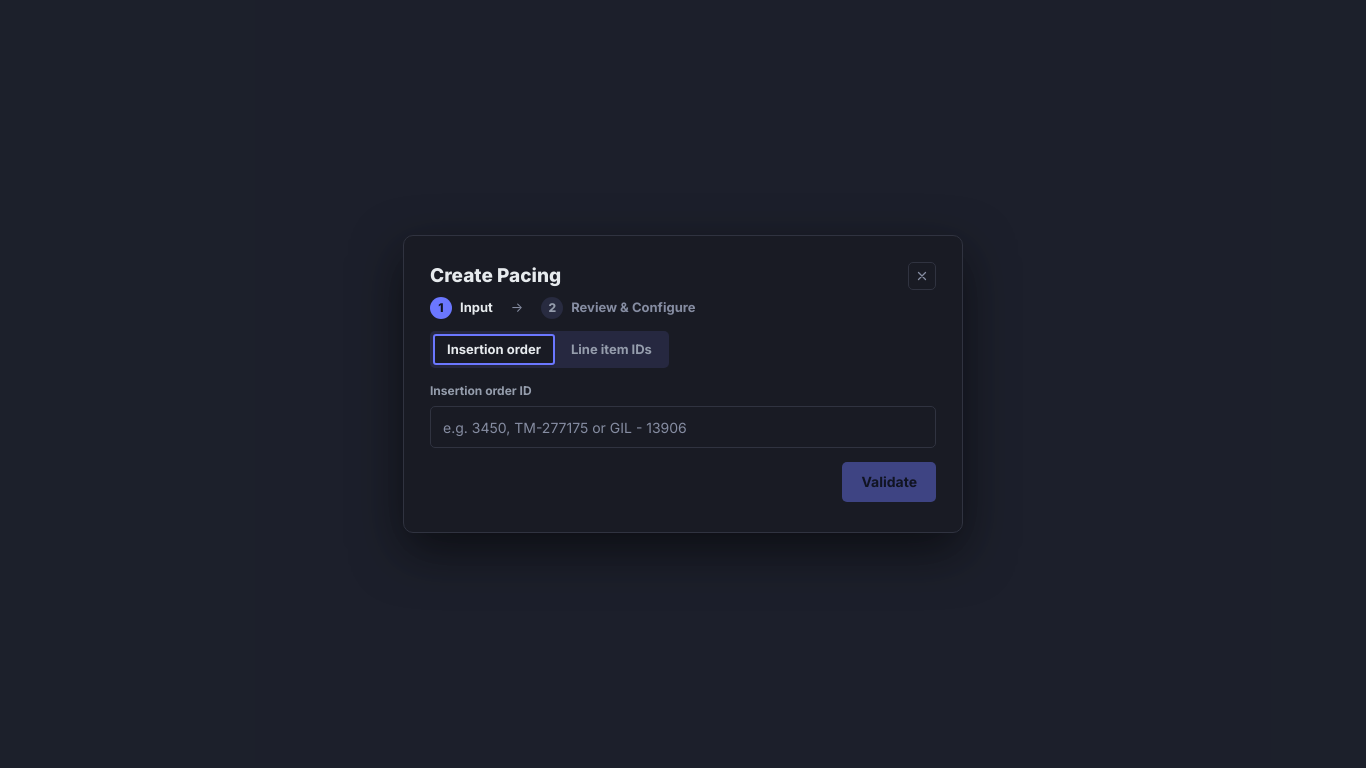
Test: CreatePacingModal › stays on step 1 with the reason when the lookup answers ok:false
Type "TM-271064" into the field labelled "Insertion order ID" at (683, 427), box [430,406,936,448]
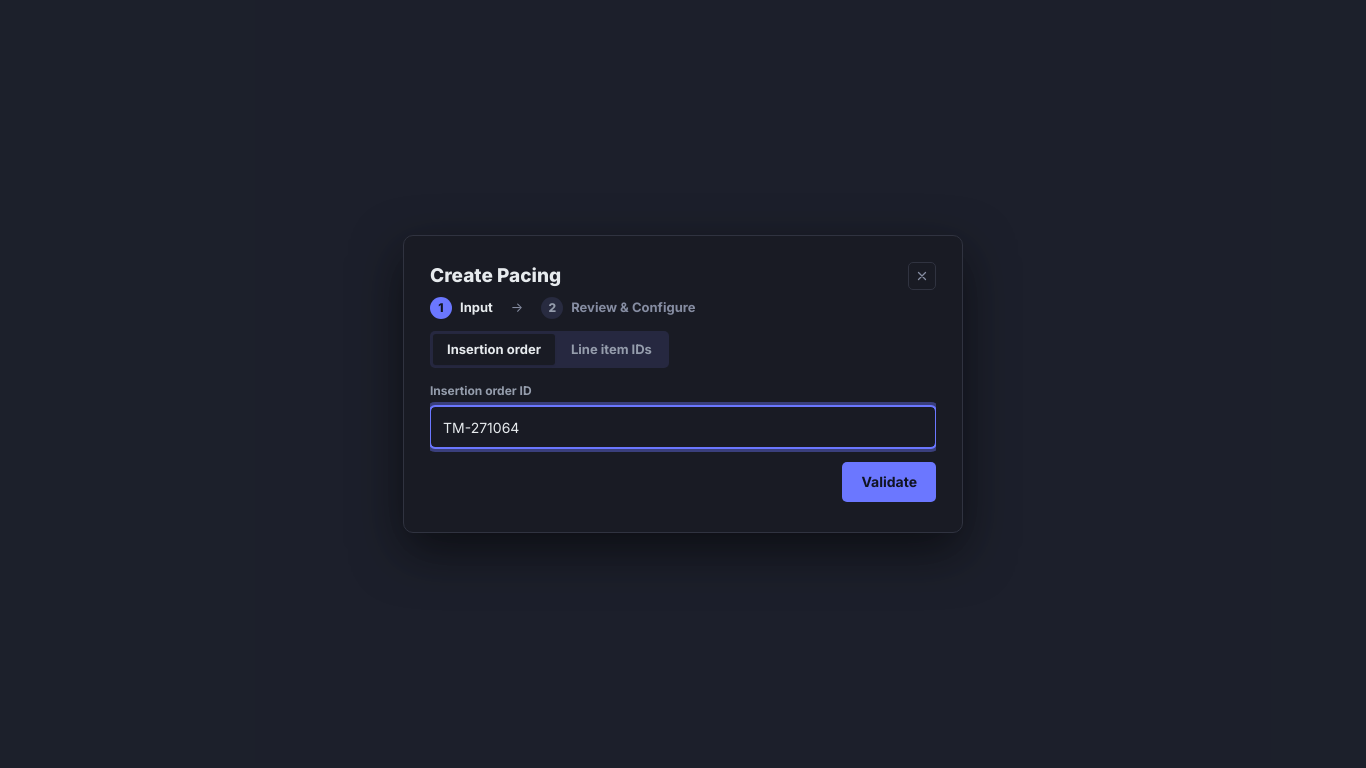
Click the button "Validate" at (889, 482), box [842,462,936,502]
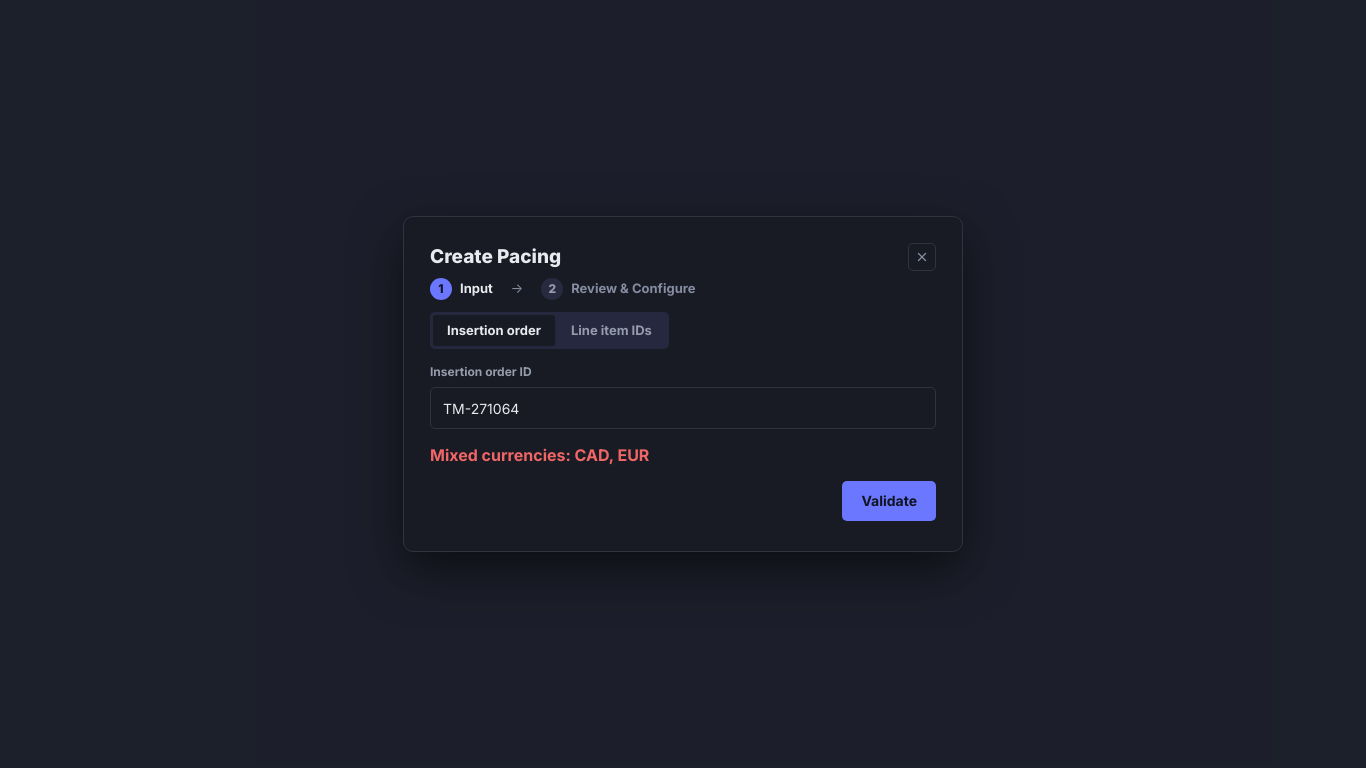
Check: the button "Insertion order" is shown, box [433,314,555,346]
Check: the text "Mixed currencies: CAD, EUR" is shown, box [430,445,649,465]
